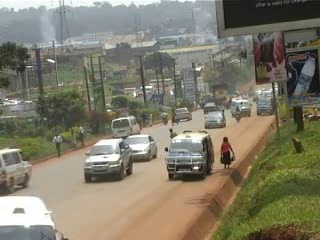Car: (124, 128, 158, 164), (201, 109, 227, 130), (172, 106, 192, 122), (201, 98, 221, 113)
Motorcycle: (157, 109, 170, 126), (231, 105, 243, 123)
